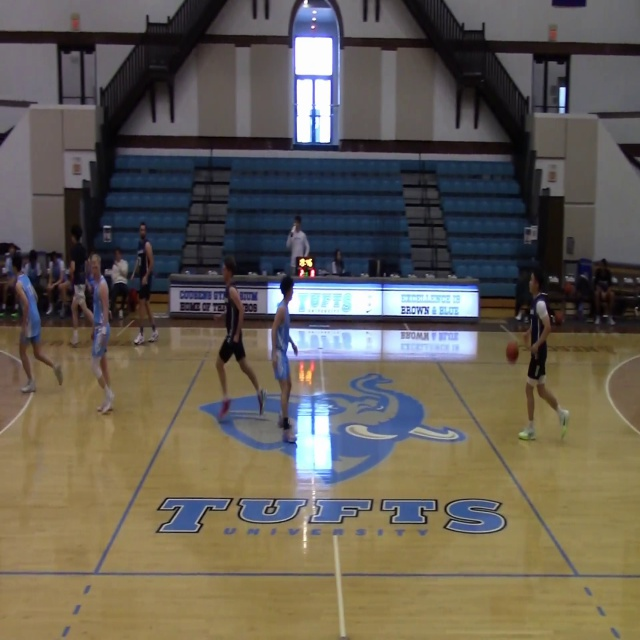Basketball: (505, 341, 519, 361)
